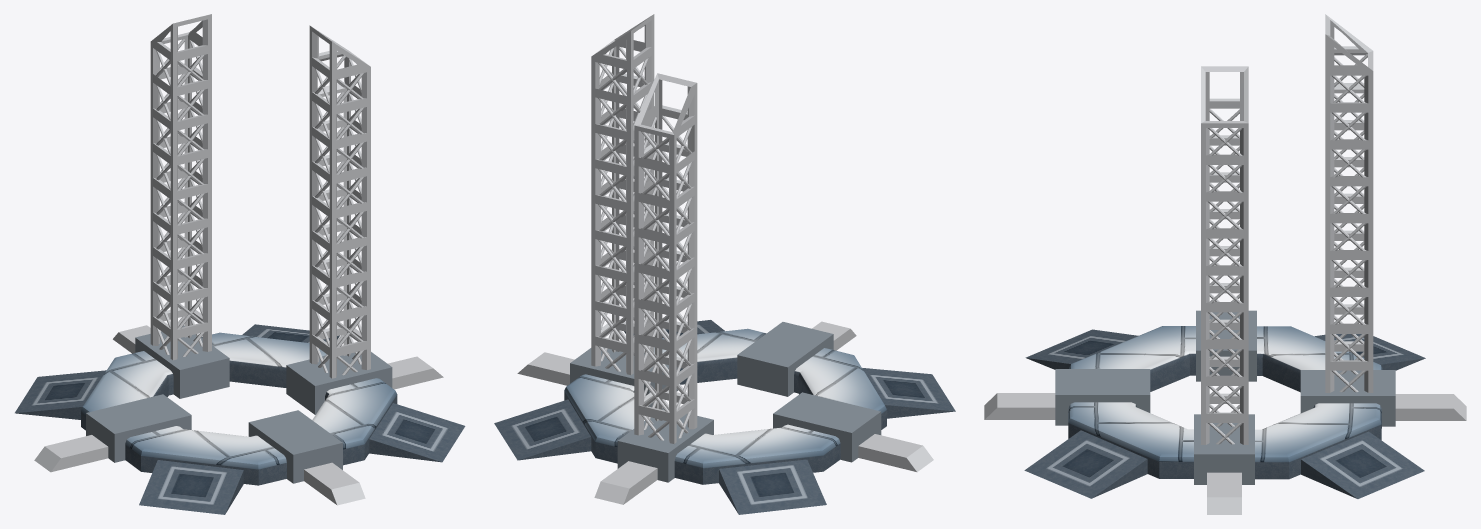
Rendered from Rocket Launcher.fbx.
The picture shows the model from 3 angles, left to right: view 1: azimuth 30°, elevation 25°; view 2: azimuth 150°, elevation 25°; view 3: azimuth 270°, elevation 25°; orthographic projection. The views are drawn at different scales.
Parts seen in each view (by area): view 1: pPipe2 (×2), Base, pCube1 (×4), pCube2 (×4), Support2, Support1, Support3, polySurface6 (×2), polySurface7 (×2), polySurface10 (×2), polySurface13 (×2), polySurface9 (×2) (+4 smaller); view 2: pPipe2 (×2), Base, pCube1 (×4), pCube2 (×4), Support3, Support4, Support2, polySurface6 (×2), polySurface7 (×2), polySurface12, polySurface8, polySurface10 (+3 smaller); view 3: pPipe2 (×2), Base, pCube1 (×4), pCube2 (×3), Support1, Support4, Support2, Support3.
Boxes of the visible parts, left/top/right/bottom form: pPipe2 (×2): left=150, top=14, right=370, bottom=378; Base: left=81, top=332, right=397, bottom=485; pCube1 (×4): left=86, top=325, right=392, bottom=483; pCube2 (×4): left=34, top=325, right=443, bottom=505; Support2: left=139, top=460, right=243, bottom=514; Support1: left=369, top=403, right=465, bottom=462; Support3: left=15, top=370, right=106, bottom=419; polySurface6 (×2): left=155, top=39, right=364, bottom=104; polySurface7 (×2): left=156, top=73, right=365, bottom=140; polySurface10 (×2): left=156, top=177, right=365, bottom=244; polySurface13 (×2): left=156, top=281, right=364, bottom=347; polySurface9 (×2): left=155, top=143, right=365, bottom=209; pPipe2 (×2): left=591, top=14, right=697, bottom=443; Base: left=564, top=328, right=886, bottom=484; pCube1 (×4): left=570, top=322, right=881, bottom=482; pCube2 (×4): left=517, top=321, right=933, bottom=504; Support3: left=719, top=459, right=826, bottom=514; Support4: left=494, top=399, right=591, bottom=460; Support2: left=862, top=368, right=955, bottom=418; polySurface6 (×2): left=598, top=47, right=692, bottom=164; polySurface7 (×2): left=598, top=82, right=691, bottom=200; polySurface12: left=639, top=328, right=692, bottom=377; polySurface8: left=639, top=186, right=691, bottom=235; polySurface10: left=640, top=257, right=692, bottom=306; pPipe2 (×2): left=1201, top=14, right=1373, bottom=444; Base: left=1068, top=326, right=1382, bottom=479; pCube1 (×4): left=1055, top=310, right=1395, bottom=484; pCube2 (×3): left=984, top=393, right=1466, bottom=514; Support1: left=1024, top=430, right=1147, bottom=498; Support4: left=1301, top=431, right=1424, bottom=498; Support2: left=1025, top=329, right=1138, bottom=369; Support3: left=1315, top=334, right=1425, bottom=370.
Size of the model in its own units: 14.22 by 12.69 by 14.22.
